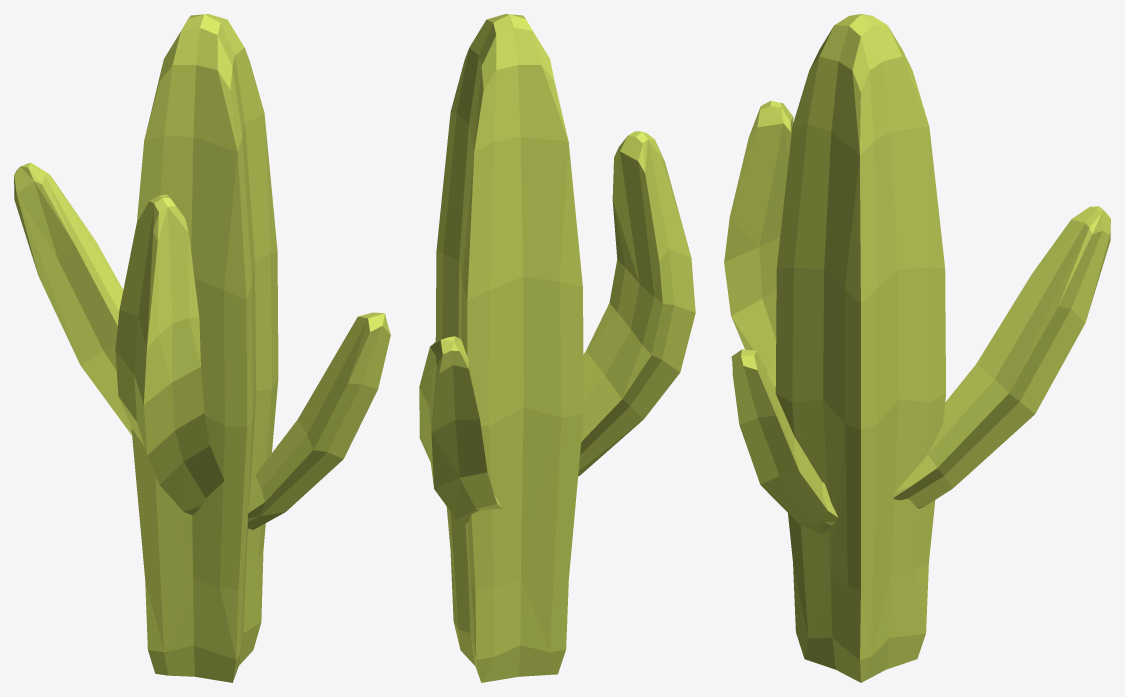
The model's file is dessert_plant_01.fbx.
The picture shows the model from 3 angles, left to right: view 1: azimuth 30°, elevation 25°; view 2: azimuth 150°, elevation 25°; view 3: azimuth 270°, elevation 25°; orthographic projection.
Visible parts, largest first — view 1: dessert_plant_01; view 2: dessert_plant_01; view 3: dessert_plant_01.
Part boxes in pixels (box(x1,y1,x2,y2)): dessert_plant_01: box(14, 14, 390, 682); dessert_plant_01: box(419, 14, 695, 682); dessert_plant_01: box(724, 14, 1110, 682).
Size of the model in its own units: 85.22 by 214 by 116.
